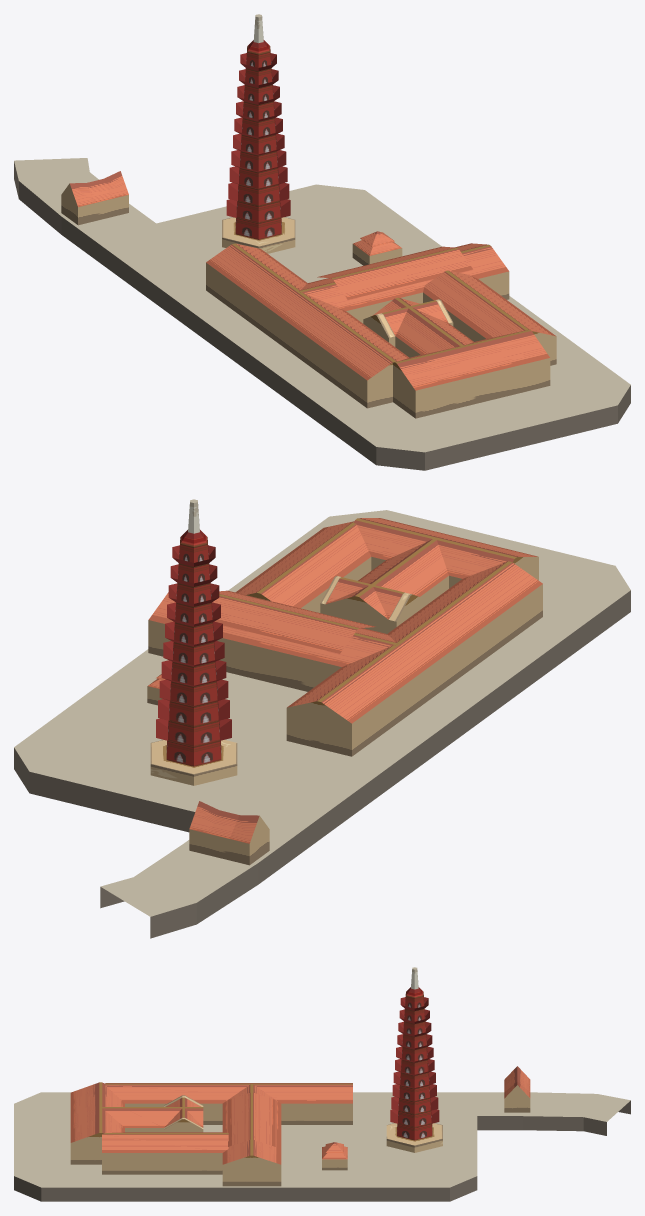
Rendered from SM_TranQuoc_Pagoda.fbx.
3 renders of one model, top to bottom at view 1: azimuth 30°, elevation 25°; view 2: azimuth 150°, elevation 25°; view 3: azimuth 270°, elevation 25°, orthographic. The views are drawn at different scales.
Parts seen in each view (by area): view 1: SM_TranQuoc_Pagoda; view 2: SM_TranQuoc_Pagoda; view 3: SM_TranQuoc_Pagoda.
Part boxes in pixels (x1,y1,x2,y2): SM_TranQuoc_Pagoda: (14,14,630,470); SM_TranQuoc_Pagoda: (14,499,630,938); SM_TranQuoc_Pagoda: (14,967,630,1201).
Size of the model in its own units: 39.43 by 35.61 by 108.
